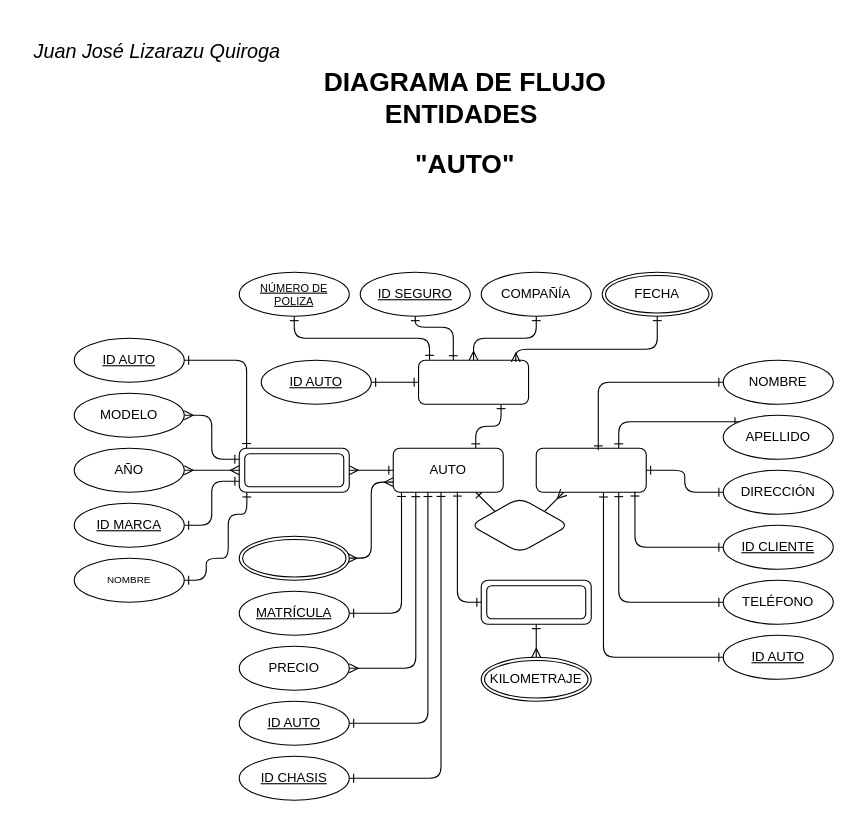
Some shapes in this 853 by 820 pixel diagram are drawn without their labels. The centre of each missing label's shape, as x and y in pixels:
COLOR: the point at 293,557
COMPRA: the point at 519,525
ESTADO: the point at 535,601
MARCA: the point at 293,469
PROPIETARIO: the point at 590,469
SEGURO: the point at 473,381
